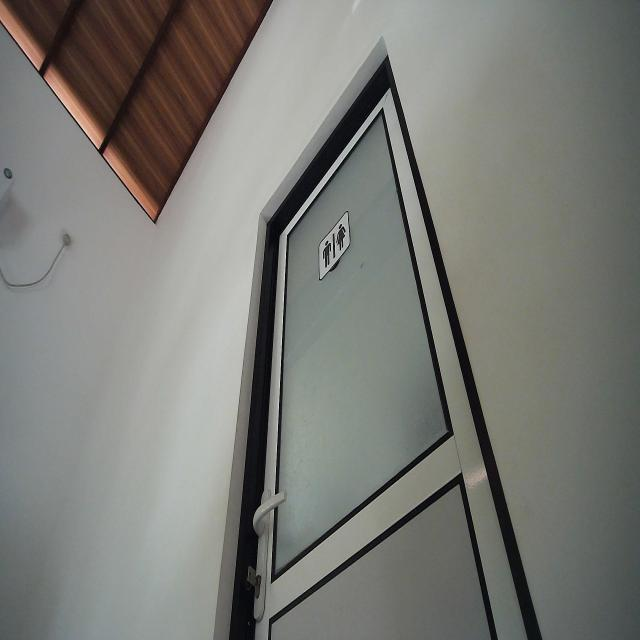restroom: (316, 206, 351, 282)
